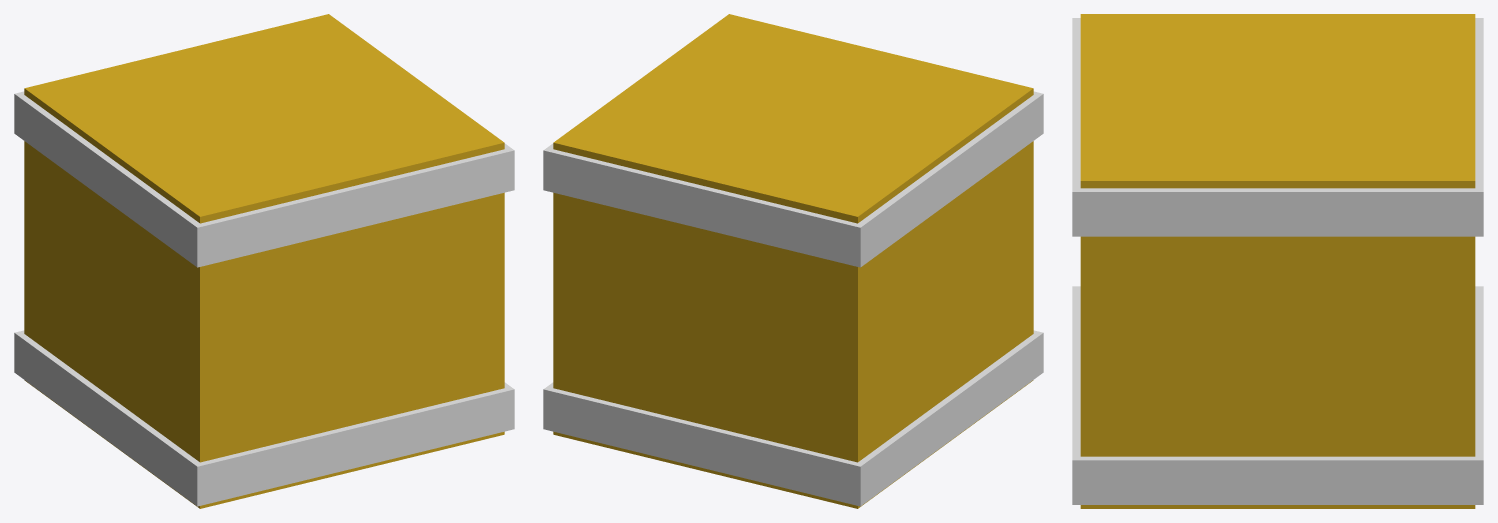
File: hive_pack.glb
3 views of the same model, side by side, from view 1: azimuth 30°, elevation 25°; view 2: azimuth 150°, elevation 25°; view 3: azimuth 270°, elevation 25° (orthographic). The views are drawn at different scales.
Parts seen in each view (by area): view 1: hive_pack_v0; view 2: hive_pack_v0; view 3: hive_pack_v0.
Boxes of the visible parts, left/top/right/bottom form: hive_pack_v0: left=14, top=14, right=514, bottom=508; hive_pack_v0: left=543, top=14, right=1043, bottom=508; hive_pack_v0: left=1072, top=14, right=1483, bottom=508.
Bounding box in the file's own units: 0.25 × 0.22 × 0.25.
